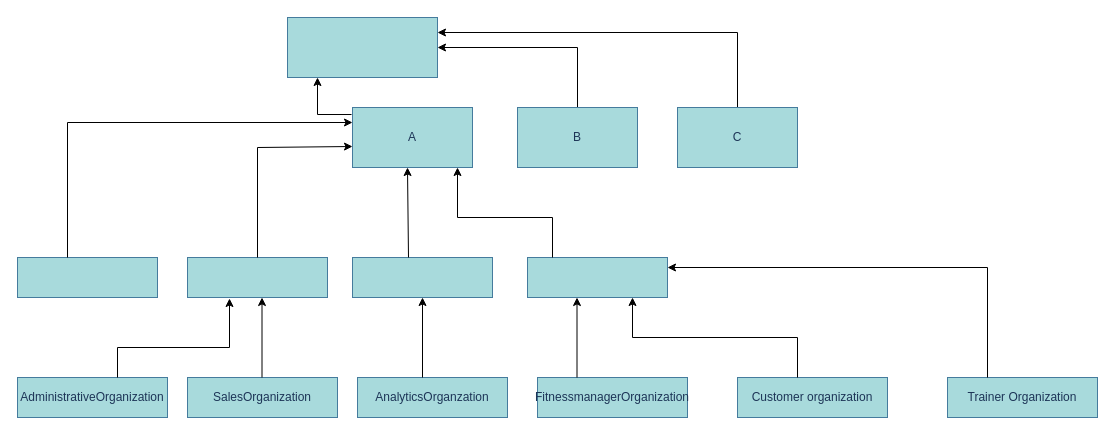
Image size: 1115x435. Some labels were removed from this diagram. The box of each missing label's shape, as (x1, y1, x2, y2) in pixels:
Analysis Enterprise: (352, 256, 492, 298)
Course Service Enterprise: (16, 256, 158, 298)
Fitness Enterprise: (526, 256, 668, 298)
Gym Management System: (286, 16, 438, 78)
Sales Enterprise: (186, 256, 328, 298)
